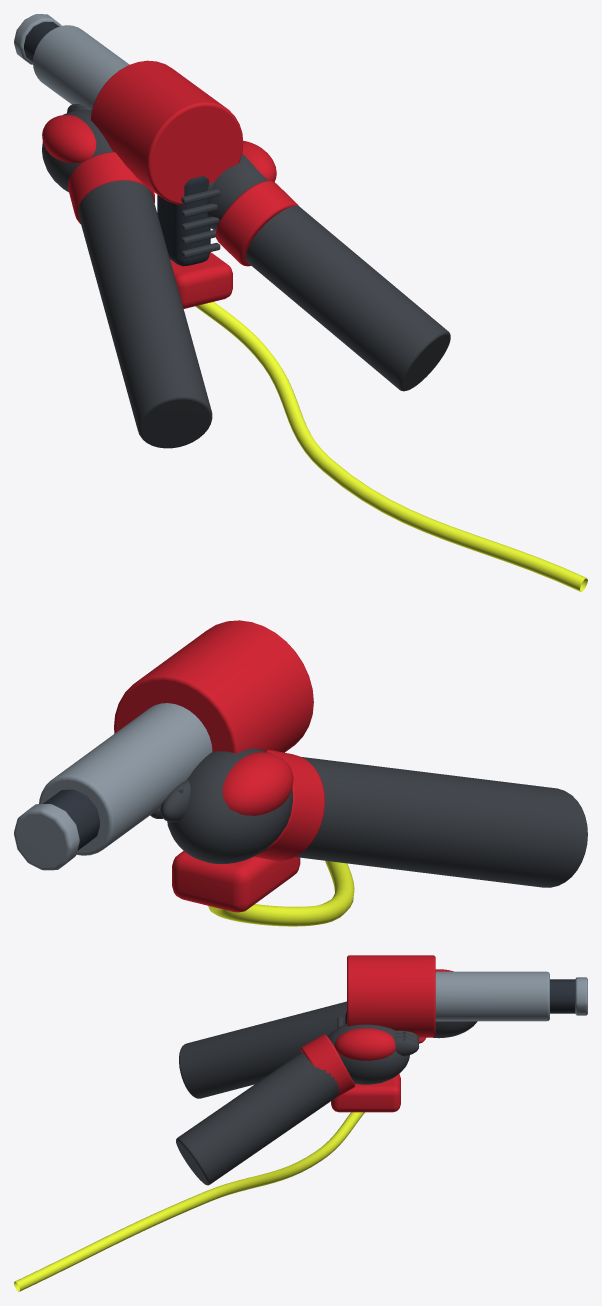
Rendered from first-person-DV2TvwoR.glb.
3 views of the same model, one above another, from view 1: azimuth 30°, elevation 25°; view 2: azimuth 150°, elevation 25°; view 3: azimuth 270°, elevation 25° (orthographic). The views are drawn at different scales.
Visible parts, largest first — view 1: static_Glove_charcoal, static_Vermilion_lacquer, static_Acid_yellow_details, static_Brushed_titanium, static_Satin_graphite_carbon; view 2: static_Glove_charcoal, static_Vermilion_lacquer, static_Brushed_titanium, static_Acid_yellow_details, static_Satin_graphite_carbon; view 3: static_Glove_charcoal, static_Vermilion_lacquer, static_Brushed_titanium, static_Acid_yellow_details, static_Satin_graphite_carbon.
Boxes of the visible parts, x1,y1,x2,y2 form: static_Glove_charcoal: (42,104,450,448); static_Vermilion_lacquer: (42,60,298,308); static_Acid_yellow_details: (195,302,587,591); static_Brushed_titanium: (14,14,129,110); static_Satin_graphite_carbon: (24,21,210,266); static_Glove_charcoal: (150,748,587,887); static_Vermilion_lacquer: (114,620,324,912); static_Brushed_titanium: (14,703,212,870); static_Acid_yellow_details: (208,860,354,926); static_Satin_graphite_carbon: (43,789,183,850); static_Glove_charcoal: (176,1001,477,1185); static_Vermilion_lacquer: (300,955,453,1112); static_Brushed_titanium: (435,971,587,1021); static_Acid_yellow_details: (14,1112,364,1291); static_Satin_graphite_carbon: (345,979,575,1082).
Size of the model in its own units: 0.8891 by 0.9475 by 1.81.
